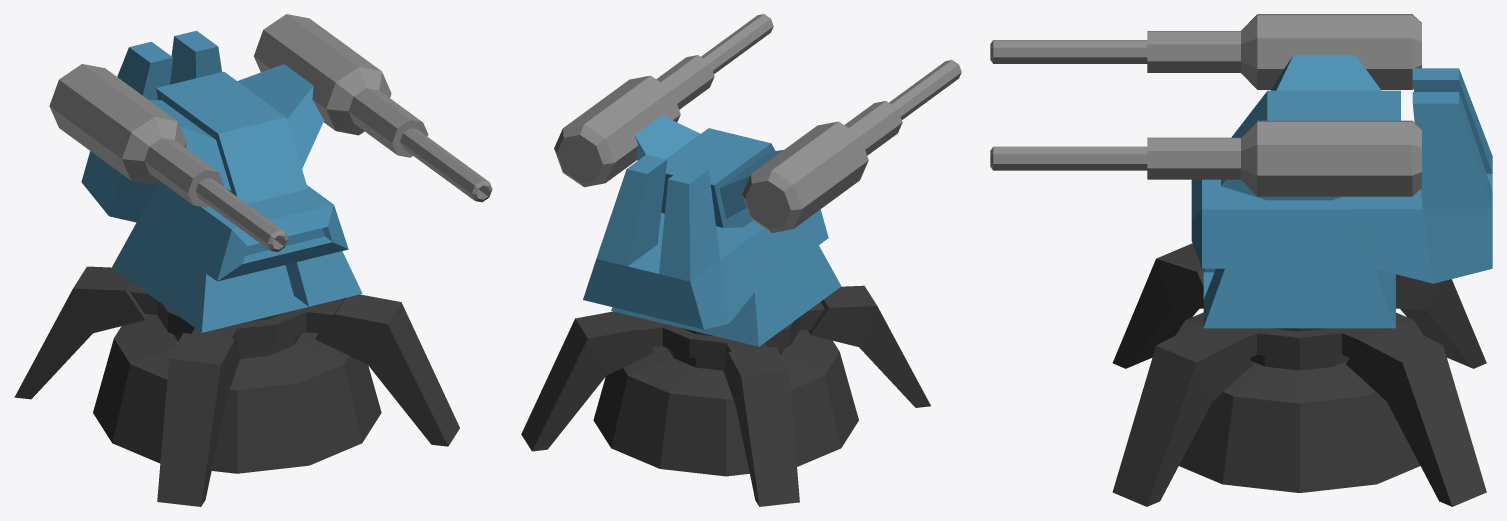
File: Turrets_3.fbx
3 views of the same model, side by side, from view 1: azimuth 30°, elevation 25°; view 2: azimuth 150°, elevation 25°; view 3: azimuth 270°, elevation 25° (orthographic). The views are drawn at different scales.
Parts seen in each view (by area): view 1: Turret_8.001, Turret_8.003, Turret_8.002; view 2: Turret_8.001, Turret_8.003, Turret_8.002; view 3: Turret_8.001, Turret_8.003, Turret_8.002.
Boxes of the visible parts, <box> form: Turret_8.001: <box>14,266,459,506</box>; Turret_8.003: <box>81,30,362,332</box>; Turret_8.002: <box>49,14,492,252</box>; Turret_8.001: <box>521,285,930,506</box>; Turret_8.003: <box>583,115,841,346</box>; Turret_8.002: <box>554,14,961,232</box>; Turret_8.001: <box>1112,243,1486,506</box>; Turret_8.003: <box>1191,55,1492,328</box>; Turret_8.002: <box>990,14,1421,196</box>.
Size of the model in its own units: 2.42 by 2.56 by 3.25.
